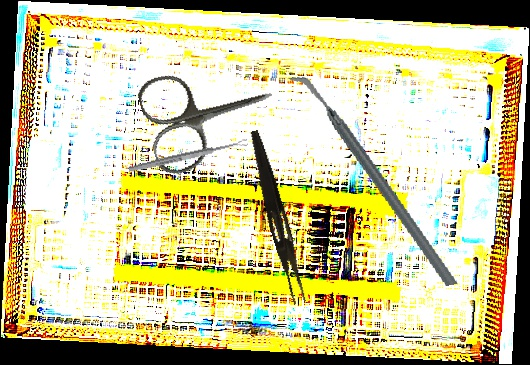Chopper: (285, 52, 461, 310)
Dressing Forceps: (241, 128, 313, 306)
Iris Scissors: (134, 47, 286, 180)
Surgical Spoon: (127, 138, 249, 174)
